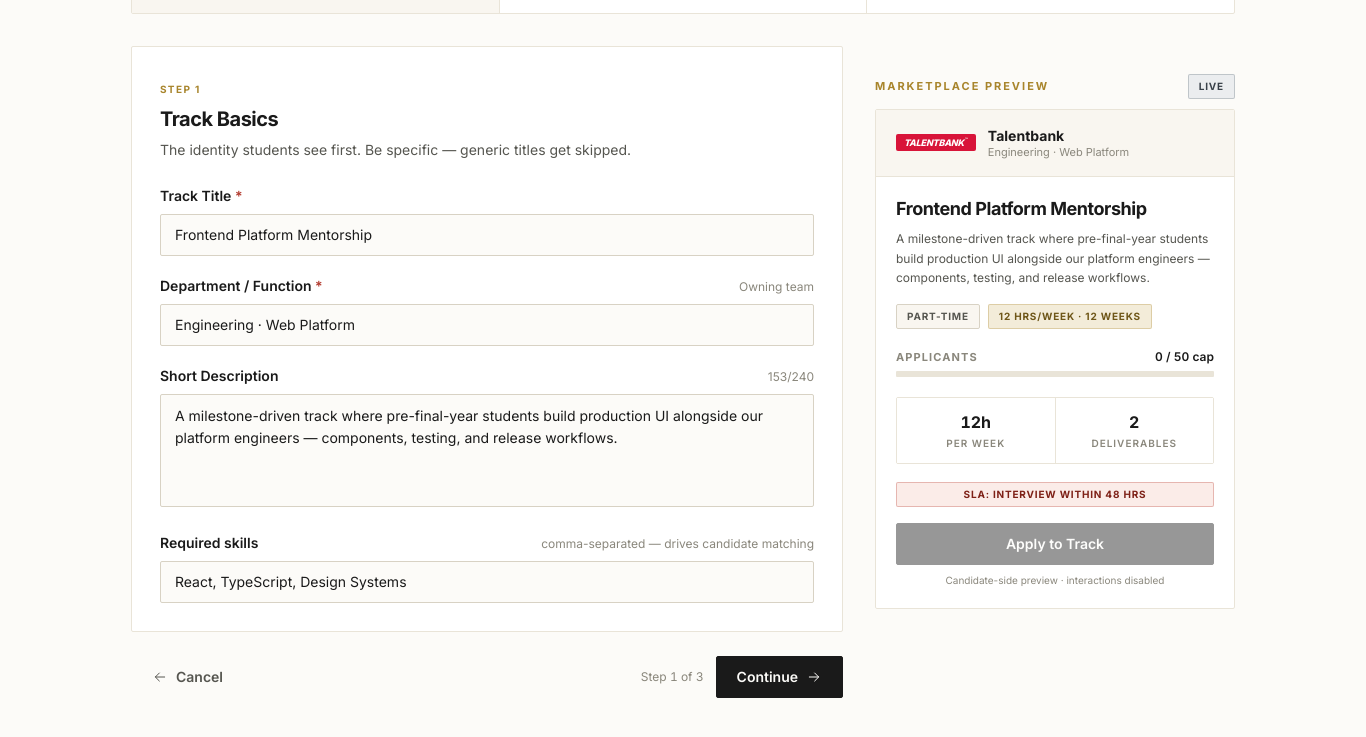
it: TrackBuilder › moves forward with Continue and back with Back through the wizard
This screenshot has width=1366, height=737.
(page scrolled)
Check: the heading "Track Basics" is shown, box x1=160 y1=107 x2=278 y2=131
Click the button "Continue".
click(779, 676)  # box x1=716 y1=656 x2=843 y2=698
(page scrolled)
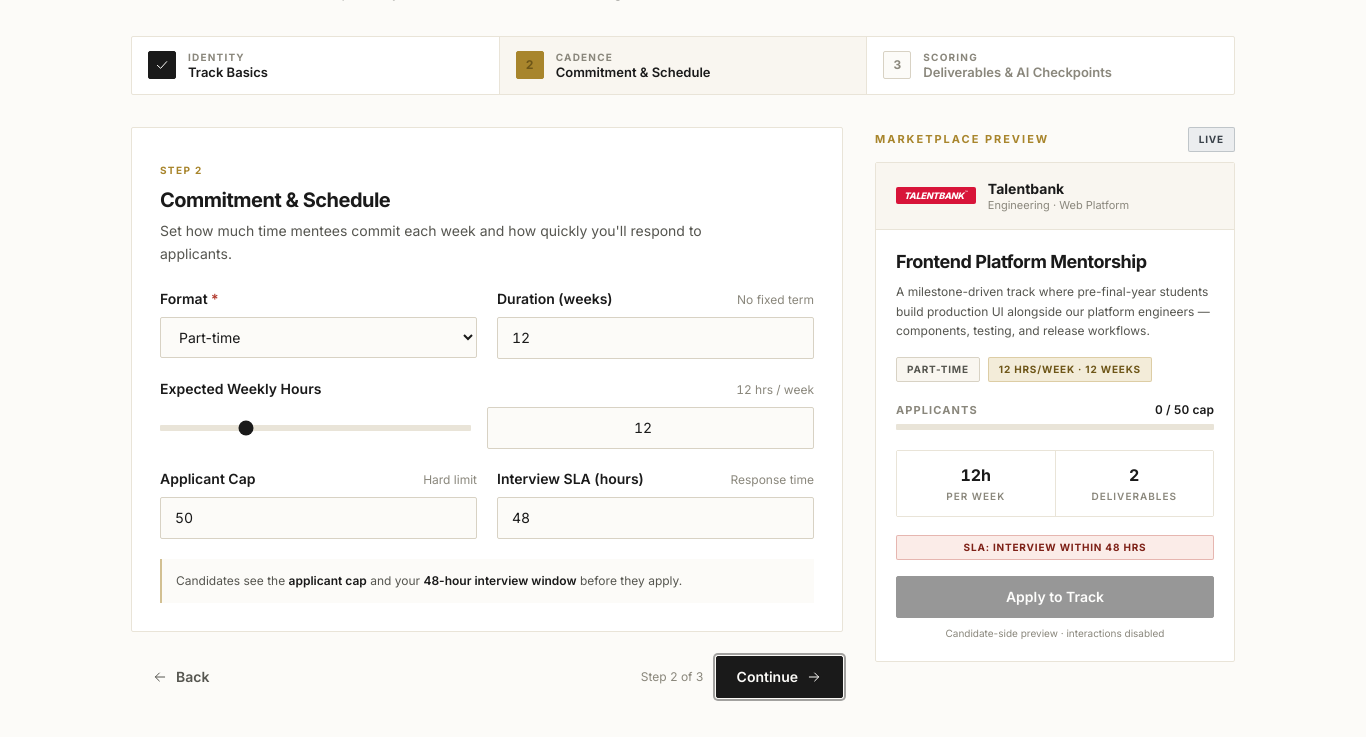
Check: the heading "Commitment & Schedule" is shown, box x1=160 y1=188 x2=390 y2=212
Click the button "Back".
click(181, 677)  # box x1=131 y1=656 x2=230 y2=698
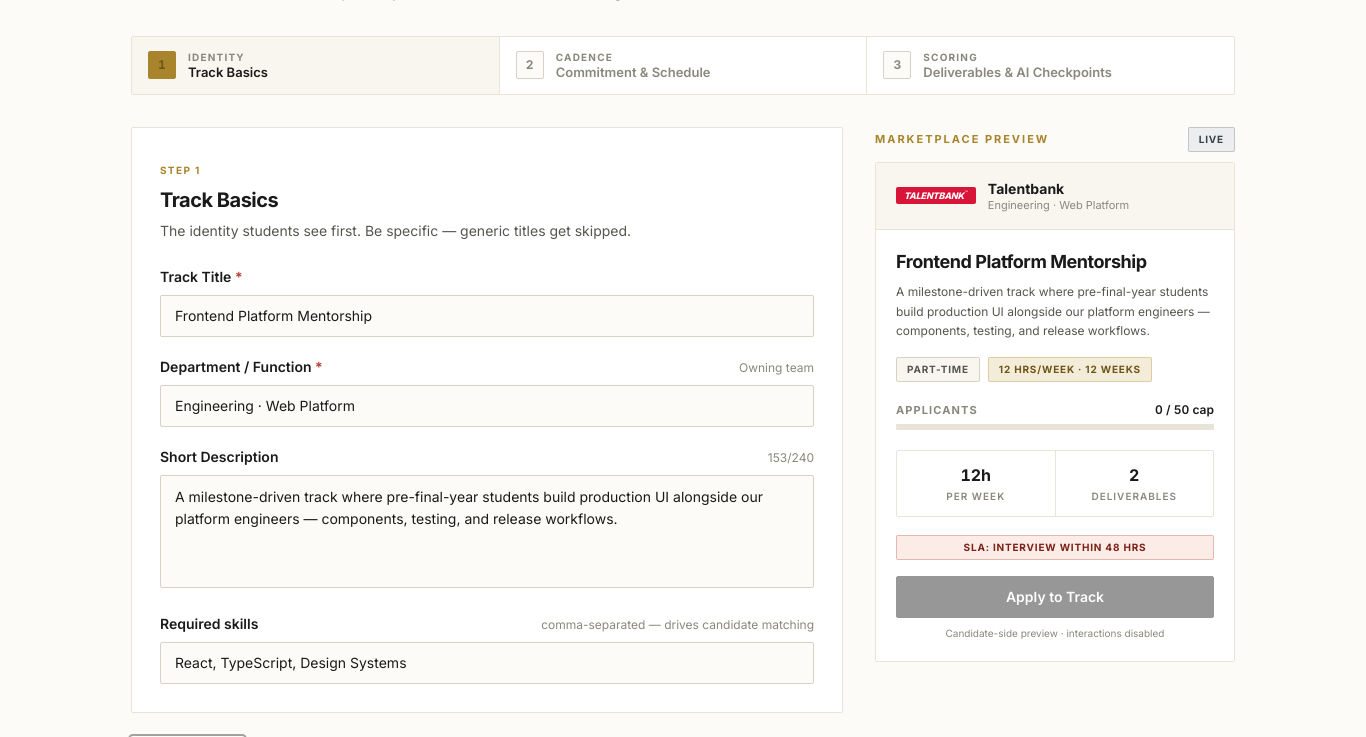
Check: the heading "Track Basics" is shown, box x1=160 y1=188 x2=278 y2=212
